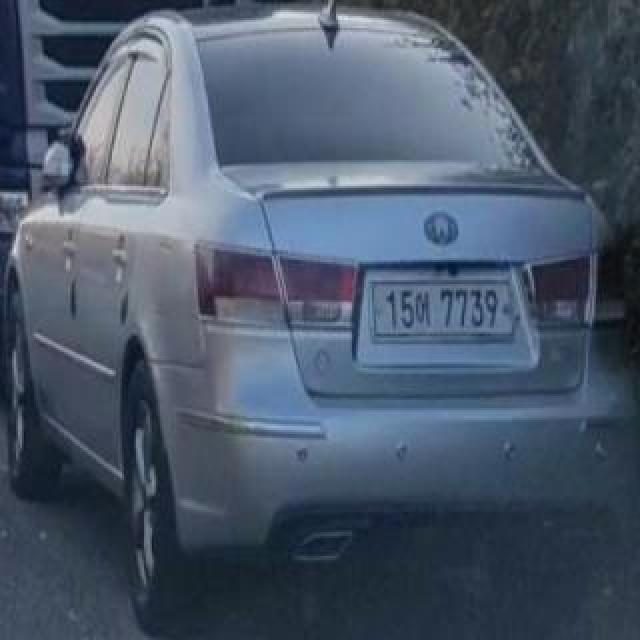car: (0, 1, 640, 640)
illegal_plate: (368, 268, 526, 356)
